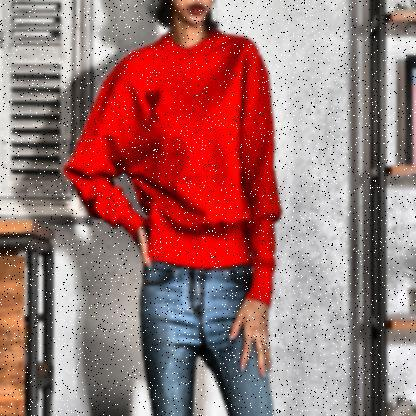sweater: (62, 29, 286, 309)
trousers: (138, 255, 276, 416)
